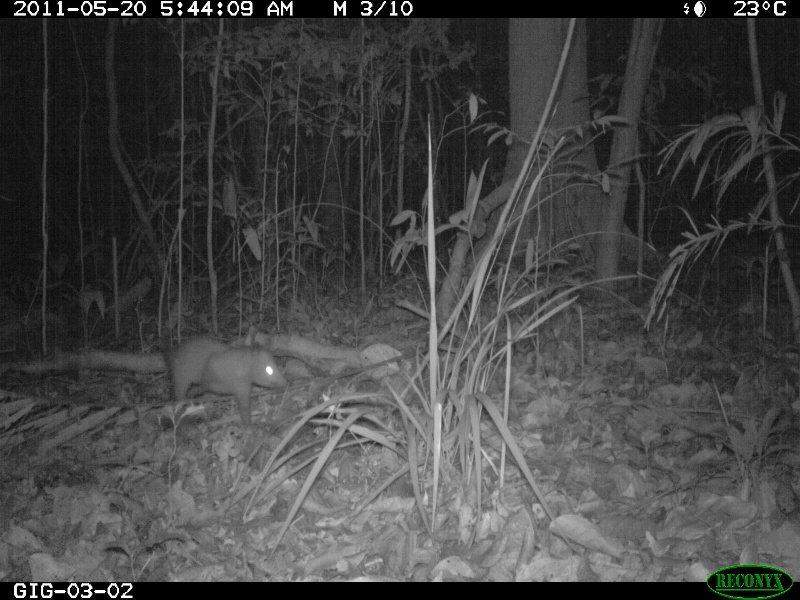opossum: (128, 327, 290, 426)
